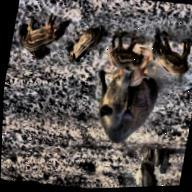boar: (81, 68, 154, 148), (21, 9, 71, 62), (144, 30, 192, 72), (61, 25, 104, 68), (103, 34, 147, 74)
